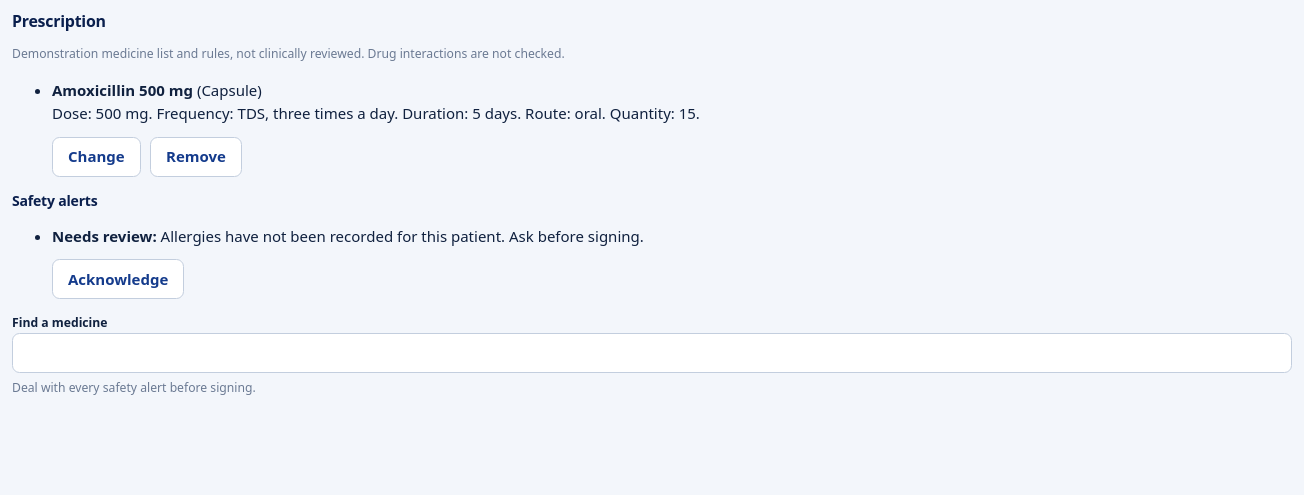
Scenario: SafetyAlerts in the prescription panel › acknowledges a review alert
This screenshot has width=1304, height=495.
Click the button "Acknowledge" at (118, 279), box [52,259,184,299]
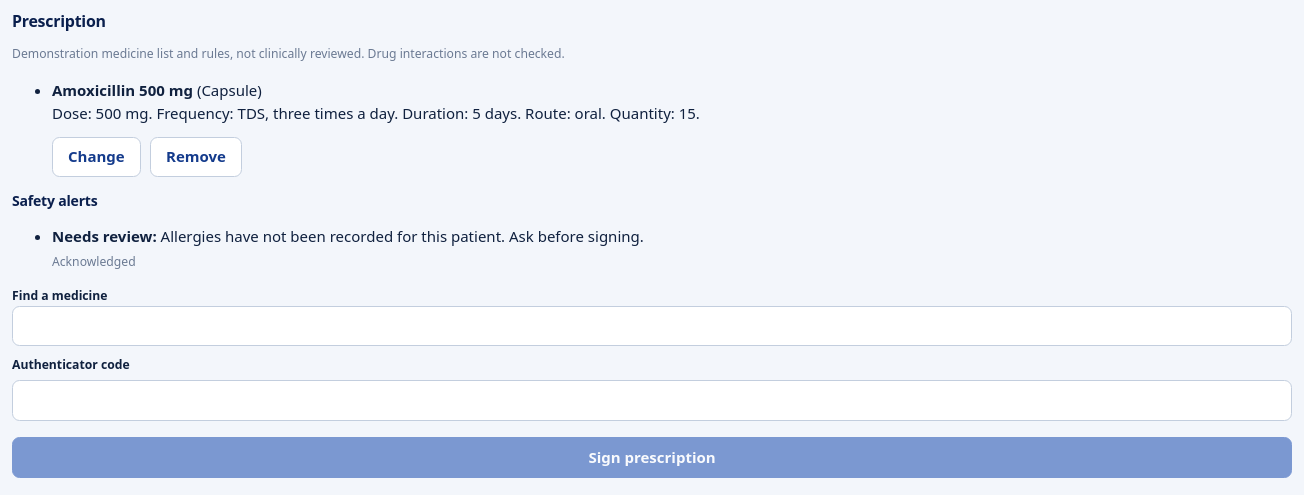
Check: the text "Acknowledged" is shown, box [52,253,136,270]
Check: the button "Sign prescription" is shown, box [12,437,1292,478]
